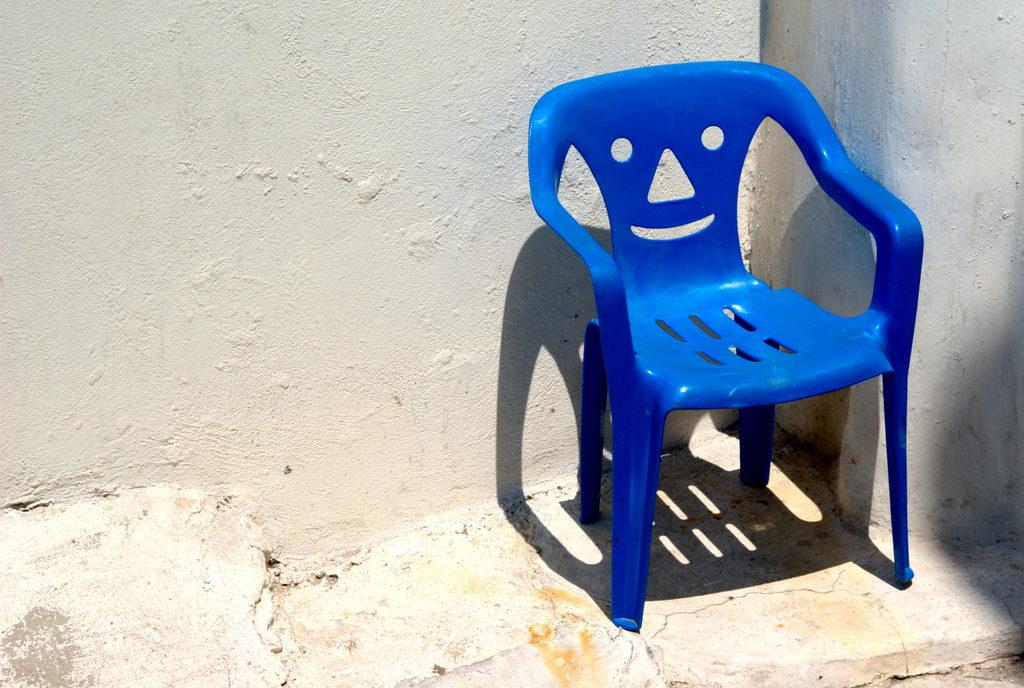Chair: (509, 48, 934, 688)
